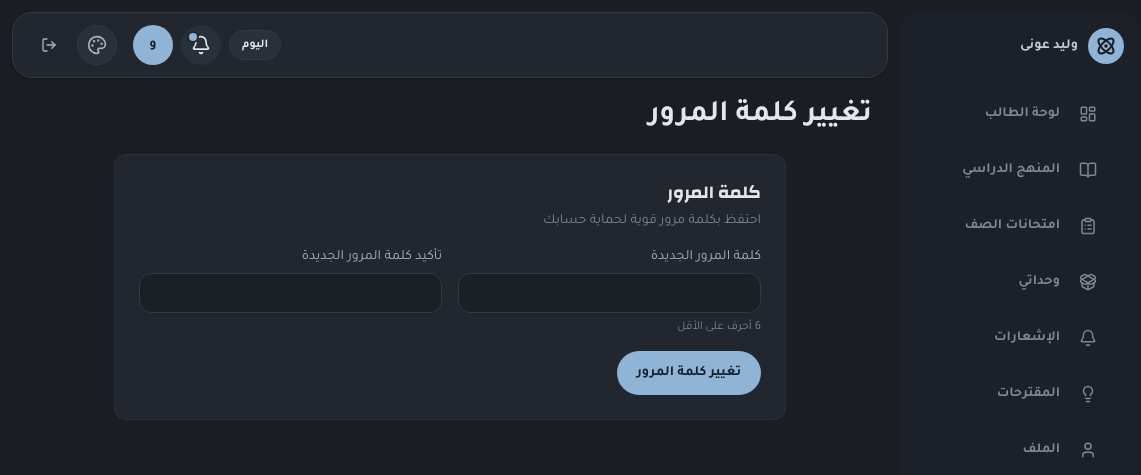
Test: StudentChangePasswordPage › changes the password and shows a success toast
The image size is (1141, 475).
Type "newpass1" into the password field labelled "كلمة المرور الجديدة". click: x=610, y=293
box: [458,273,761,313]
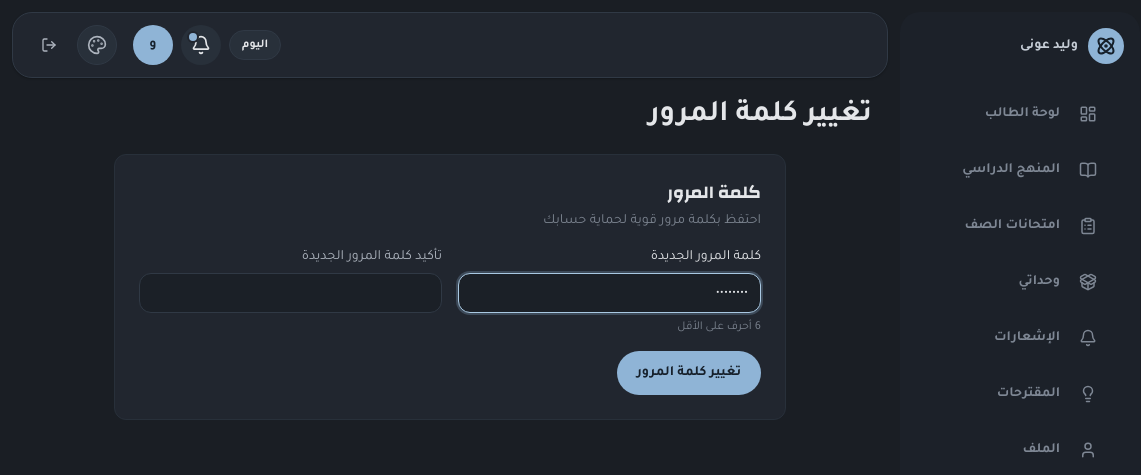
Type "newpass1" into the password field labelled "تأكيد كلمة المرور الجديدة". click: x=290, y=293
box: [139,273,442,313]
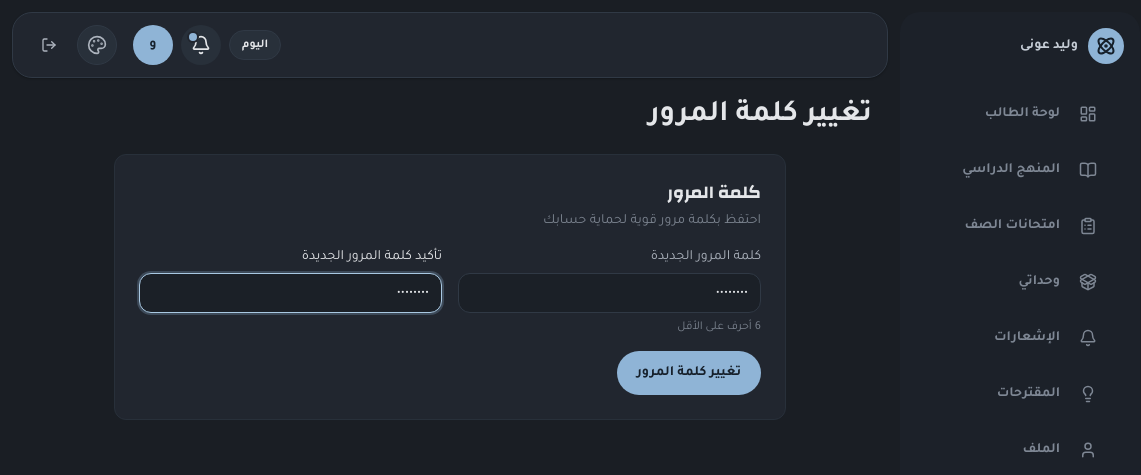
Click the button "تغيير كلمة المرور". click: x=689, y=373
box: [617,351,761,395]
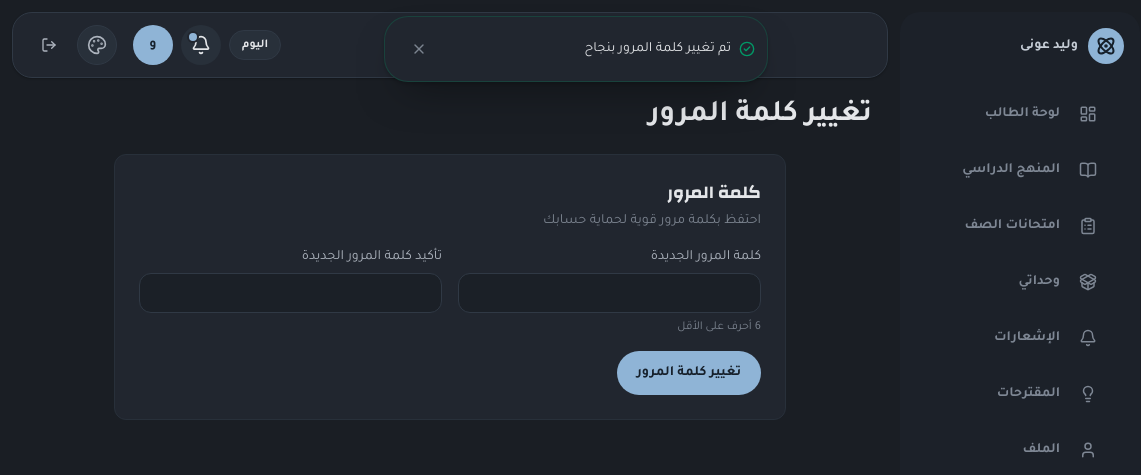
Result: the text "تم تغيير كلمة المرور بنجاح" is shown at [585,42,731,56]
